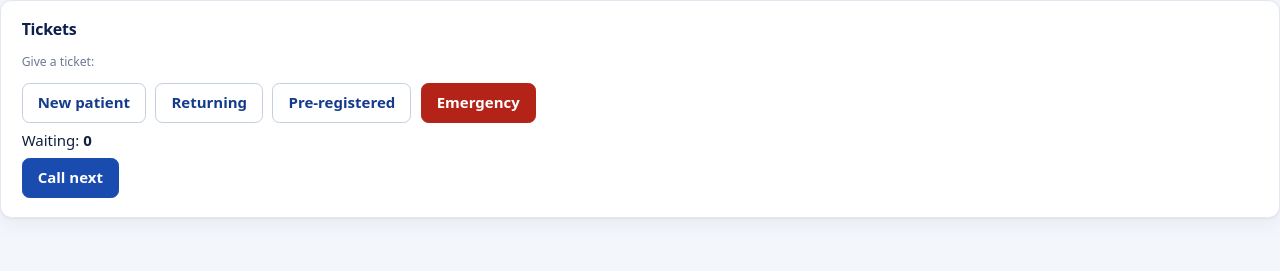
Test case: TicketDesk › says when nobody is waiting
Click the button "Call next" at (70, 178), box x1=22 y1=158 x2=119 y2=198
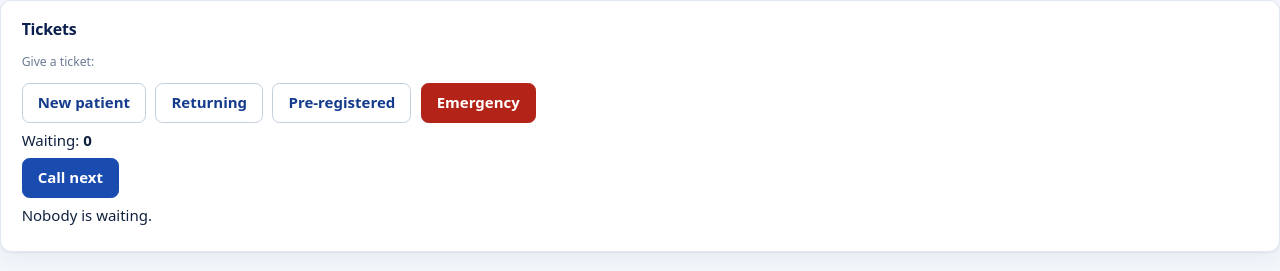
expect the text "Nobody is waiting." is shown: met, box x1=22 y1=205 x2=152 y2=225
